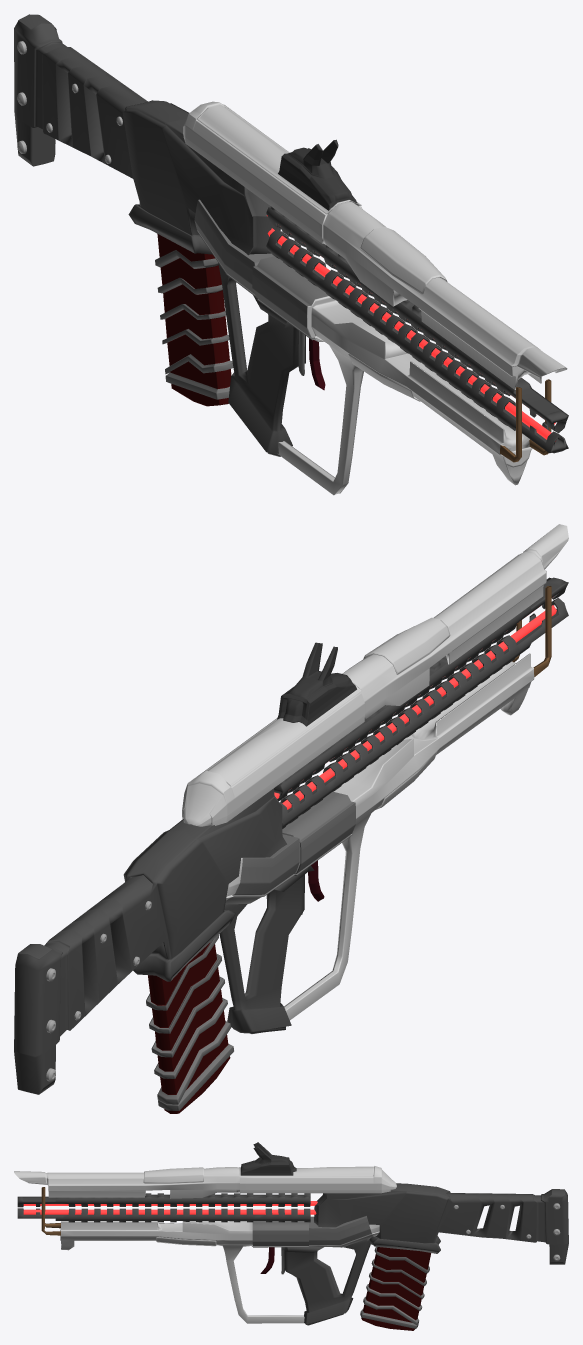
Rendered from PopGun.fbx.
3 views of the same model, one above another, from view 1: azimuth 30°, elevation 25°; view 2: azimuth 150°, elevation 25°; view 3: azimuth 270°, elevation 25° (orthographic). The views are drawn at different scales.
Parts seen in each view (by area): view 1: pCube12, pCube4, pasted__pCube4, pCube8, pCube7, polySurface23, polySurface27, pCube5, polySurface22; view 2: pCube12, pCube4, pasted__pCube4, pCube8, pCube7, polySurface23, polySurface27, pCube5, polySurface22; view 3: pCube12, pCube4, pasted__pCube4, pCube8, pCube7, polySurface23, polySurface27, pCube5, polySurface22, polySurface26.
Boxes of the visible parts, <box> form: pCube12: <box>14,14,280,255</box>; pCube4: <box>183,101,567,389</box>; pasted__pCube4: <box>194,199,551,495</box>; pCube8: <box>155,234,233,406</box>; pCube7: <box>218,263,305,456</box>; polySurface23: <box>266,229,568,453</box>; polySurface27: <box>266,206,568,433</box>; pCube5: <box>278,139,357,210</box>; polySurface22: <box>267,228,555,441</box>; pCube12: <box>14,788,286,1094</box>; pCube4: <box>182,524,568,826</box>; pasted__pCube4: <box>225,586,551,1020</box>; pCube8: <box>146,934,233,1113</box>; pCube7: <box>219,865,314,1033</box>; polySurface23: <box>280,598,568,828</box>; polySurface27: <box>274,577,568,800</box>; pCube5: <box>277,642,356,726</box>; polySurface22: <box>282,605,556,809</box>; pCube12: <box>314,1183,568,1264</box>; pCube4: <box>14,1166,396,1198</box>; pasted__pCube4: <box>41,1187,379,1323</box>; pCube8: <box>360,1247,431,1330</box>; pCube7: <box>281,1237,370,1325</box>; polySurface23: <box>17,1208,310,1222</box>; polySurface27: <box>17,1193,310,1207</box>; pCube5: <box>240,1142,296,1175</box>; polySurface22: <box>23,1209,316,1214</box>; polySurface26: <box>23,1201,317,1205</box>.
Bounding box in the file's own units: 3.35 × 23.16 × 63.2.
